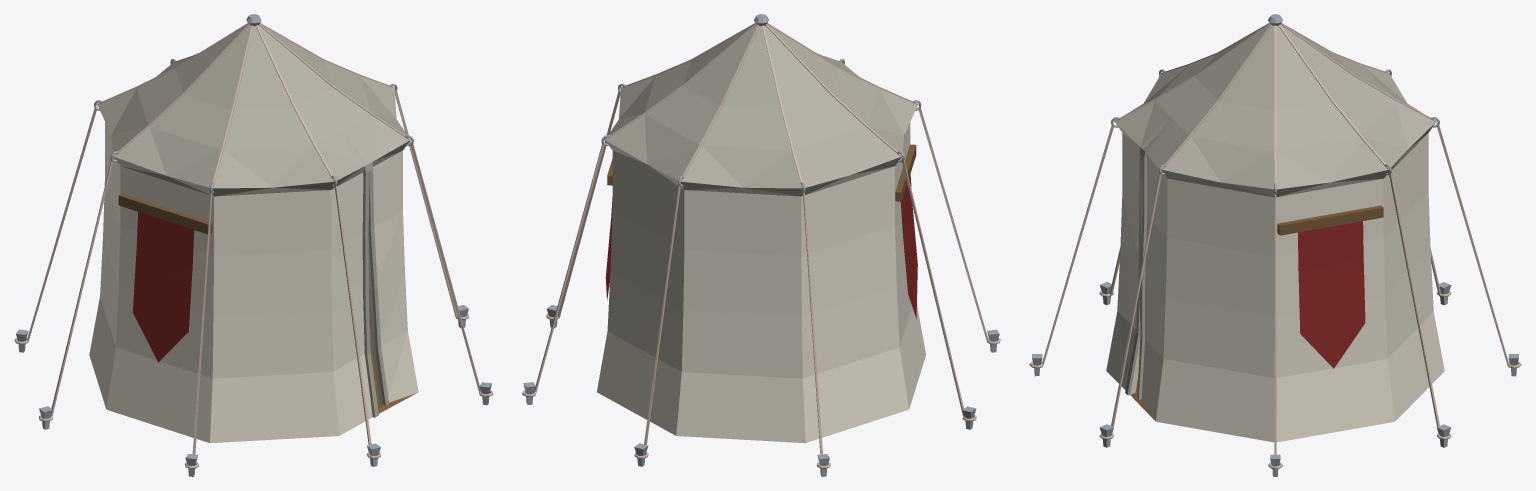
The model's file is Tent 3.fbx.
The picture shows the model from 3 angles, left to right: view 1: azimuth 30°, elevation 25°; view 2: azimuth 150°, elevation 25°; view 3: azimuth 270°, elevation 25°; orthographic projection.
Visible parts, largest first — view 1: Tent 3; view 2: Tent 3; view 3: Tent 3.
Boxes of the visible parts, x1=… form: Tent 3: x1=14, y1=14, x2=493, y2=476; Tent 3: x1=522, y1=14, x2=1000, y2=476; Tent 3: x1=1029, y1=14, x2=1521, y2=476.
Bounding box in the file's own units: 4.75 × 3.83 × 4.75.
